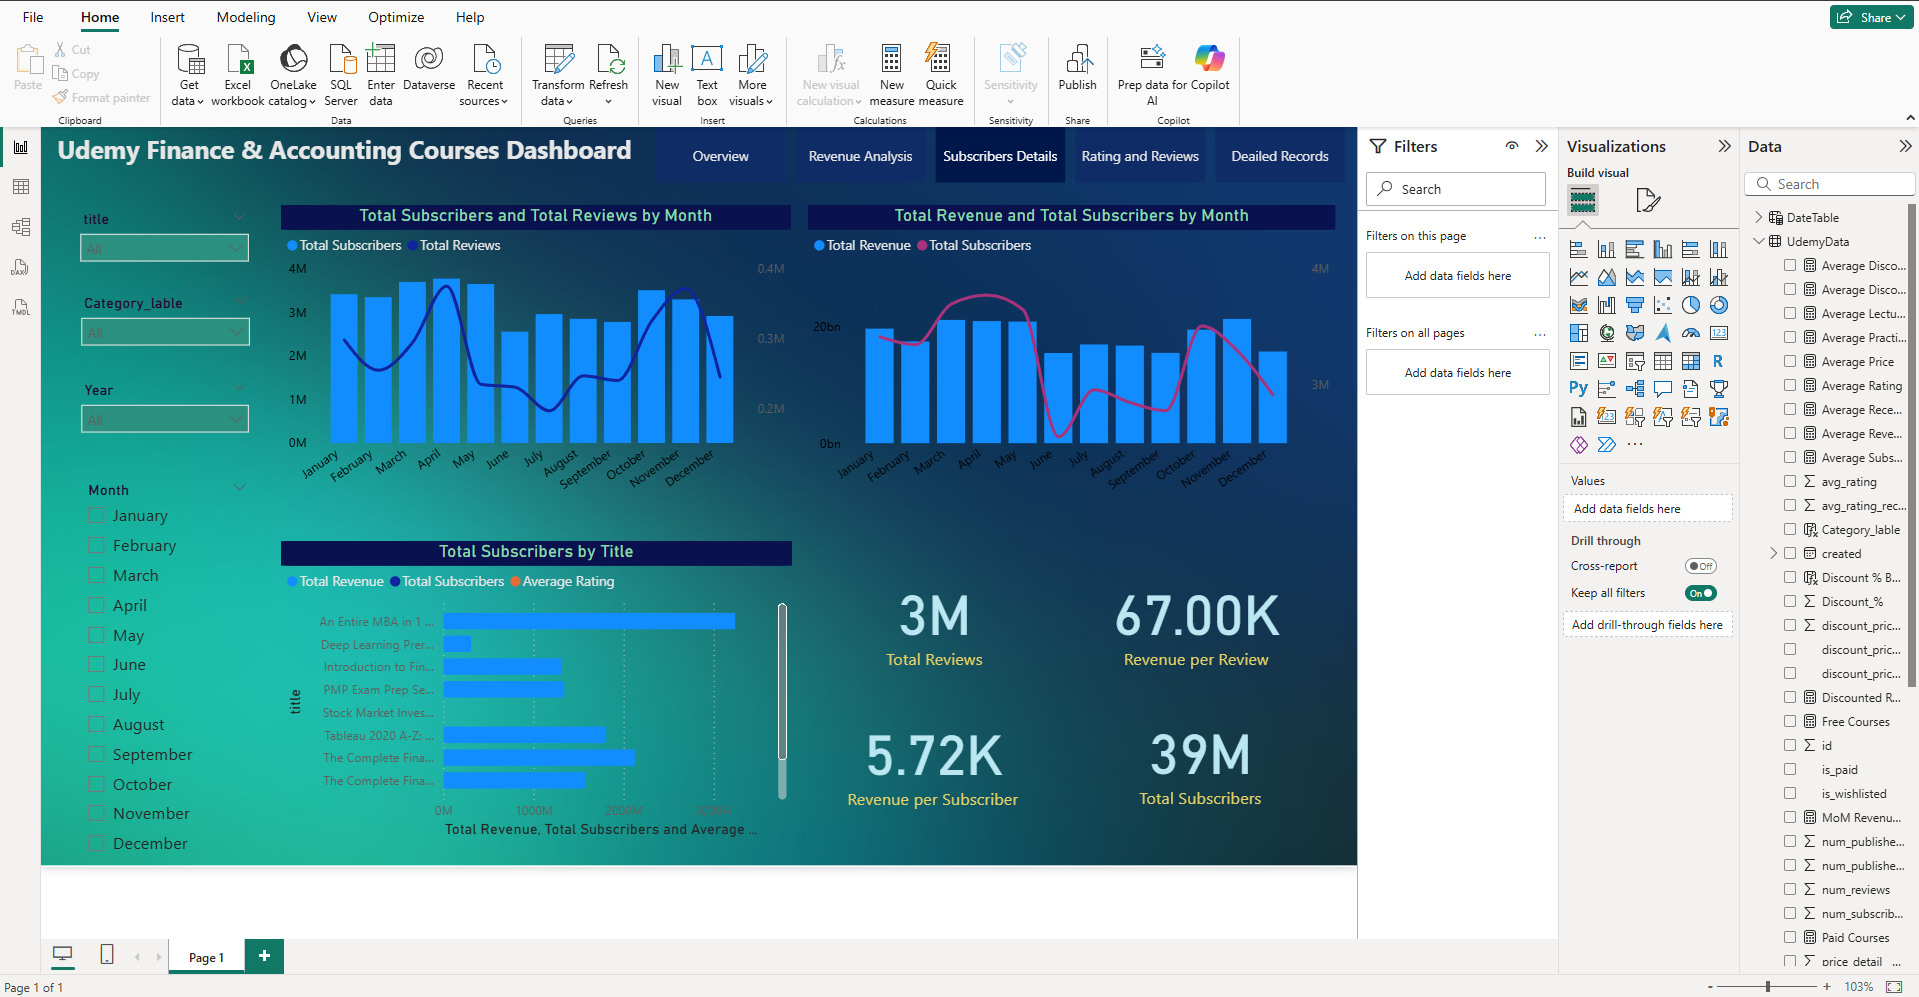

This screenshot's page, from the dashboard's own definition file:
{"tool":"powerbi","page":{"name":"Page 1","canvas":[1280,720],"ordinal":0},"visuals":[{"type":"textbox","box":[10.7,0,570.2,51],"z":0},{"type":"card","fields":{"Values":["UdemyData.Total Revenue"]},"box":[217.6,67.8,160.1,80.1],"z":0,"group":"g1"},{"type":"card","fields":{"Values":["UdemyData.Total Subscribers"]},"box":[387.9,68.1,160.1,81.2],"z":1000,"group":"g1"},{"type":"card","fields":{"Values":["UdemyData.Total Reviews"]},"box":[558.2,68.1,159,83.5],"z":2000,"group":"g1"},{"type":"card","fields":{"Values":["UdemyData.Average Discount %"]},"box":[729.6,68.1,157.9,82.3],"z":3000,"group":"g1"},{"type":"card","fields":{"Values":["UdemyData.Average Rating"]},"box":[899.9,68.1,157.9,84.6],"z":4000,"group":"g1"},{"type":"group","id":"g1","title":"Overview","box":[18,67.8,1245.1,651.9],"z":5000},{"type":"card","fields":{"Values":["UdemyData.Average Revenue per Course"]},"box":[1070.2,68.1,191.7,83.5],"z":5000,"group":"g1"},{"type":"bookmarkNavigator","box":[597.9,0,670.8,54.4],"z":6000},{"type":"clusteredColumnChart","title":"Paid Courses, Free Courses ","fields":{"Y":["UdemyData.Paid Courses","UdemyData.Free Courses"]},"box":[569.6,167,285.1,264.1],"z":6000,"group":"g1"},{"type":"barChart","title":"Total Revenue by Category_lable and title","fields":{"Category":["UdemyData.Category_lable","UdemyData.title"],"Y":["UdemyData.Total Revenue"],"Series":["UdemyData.title"]},"box":[866.3,167,396.8,263],"z":7000,"group":"g1"},{"type":"slicer","fields":{"Values":["UdemyData.Category_lable"]},"box":[24.4,76.8,167.3,59.3],"z":8000,"group":"g1"},{"type":"slicer","fields":{"Values":["UdemyData.title"]},"box":[24.4,148.8,167.3,59.3],"z":9000,"group":"g1"},{"type":"slicer","fields":{"Values":["UdemyData.published_time.Variation.Date Hierarchy.Year"]},"box":[24.4,292.7,167.3,59.3],"z":10000,"group":"g1"},{"type":"slicer","fields":{"Values":["UdemyData.published_time.Variation.Date Hierarchy.Month"]},"box":[24.4,364.7,167.3,69.1],"z":11000,"group":"g1"},{"type":"columnChart","fields":{"Y":["UdemyData.Total Revenue"],"Category":["UdemyData.published_time.Variation.Date Hierarchy.Month"]},"box":[820.4,457.1,442.6,262.6],"z":12000,"group":"g1"},{"type":"slicer","fields":{"Values":["UdemyData.is_paid"]},"box":[24.4,220.7,167.3,59.3],"z":13000,"group":"g1"},{"type":"barChart","title":"Total Subscribers by Category_lable","fields":{"Category":["UdemyData.Category_lable"],"Y":["UdemyData.Total Subscribers"]},"box":[214.7,167,345.6,261.8],"z":14000,"group":"g1"},{"type":"donutChart","title":"Total Revenue by Category_lable","fields":{"Category":["UdemyData.Category_lable"],"Y":["UdemyData.Total Revenue"]},"box":[18,455.7,420.9,263.5],"z":15000,"group":"g1"},{"type":"columnChart","title":"Total Reviews by Category_lable","fields":{"Category":["UdemyData.Category_lable"],"Y":["UdemyData.Total Reviews"]},"box":[447,456.7,361.4,261.5],"z":16000,"group":"g1"}]}

Visuals, with their boxes on the page's 1280x720 design canvas (x1, y1, x2, y2). These are canvas units, not pixel positions in the 1919x997 screenshot, which may show the page scaled, cropped or inside an application window:
textbox: <bbox>11, 0, 581, 51</bbox>
card - UdemyData.Total Revenue: <bbox>218, 68, 378, 148</bbox>
card - UdemyData.Total Subscribers: <bbox>388, 68, 548, 149</bbox>
card - UdemyData.Total Reviews: <bbox>558, 68, 717, 152</bbox>
card - UdemyData.Average Discount %: <bbox>730, 68, 888, 150</bbox>
card - UdemyData.Average Rating: <bbox>900, 68, 1058, 153</bbox>
"Overview" group: <bbox>18, 68, 1263, 720</bbox>
card - UdemyData.Average Revenue per Course: <bbox>1070, 68, 1262, 152</bbox>
bookmarkNavigator: <bbox>598, 0, 1269, 54</bbox>
"Paid Courses, Free Courses " clusteredColumnChart: <bbox>570, 167, 855, 431</bbox>
"Total Revenue by Category_lable and title" barChart: <bbox>866, 167, 1263, 430</bbox>
slicer - UdemyData.Category_lable: <bbox>24, 77, 192, 136</bbox>
slicer - UdemyData.title: <bbox>24, 149, 192, 208</bbox>
slicer - UdemyData.published_time.Variation.Date Hierarchy.Year: <bbox>24, 293, 192, 352</bbox>
slicer - UdemyData.published_time.Variation.Date Hierarchy.Month: <bbox>24, 365, 192, 434</bbox>
columnChart - UdemyData.Total Revenue x UdemyData.published_time.Variation.Date Hierarchy.Month: <bbox>820, 457, 1263, 720</bbox>
slicer - UdemyData.is_paid: <bbox>24, 221, 192, 280</bbox>
"Total Subscribers by Category_lable" barChart: <bbox>215, 167, 560, 429</bbox>
"Total Revenue by Category_lable" donutChart: <bbox>18, 456, 439, 719</bbox>
"Total Reviews by Category_lable" columnChart: <bbox>447, 457, 808, 718</bbox>
